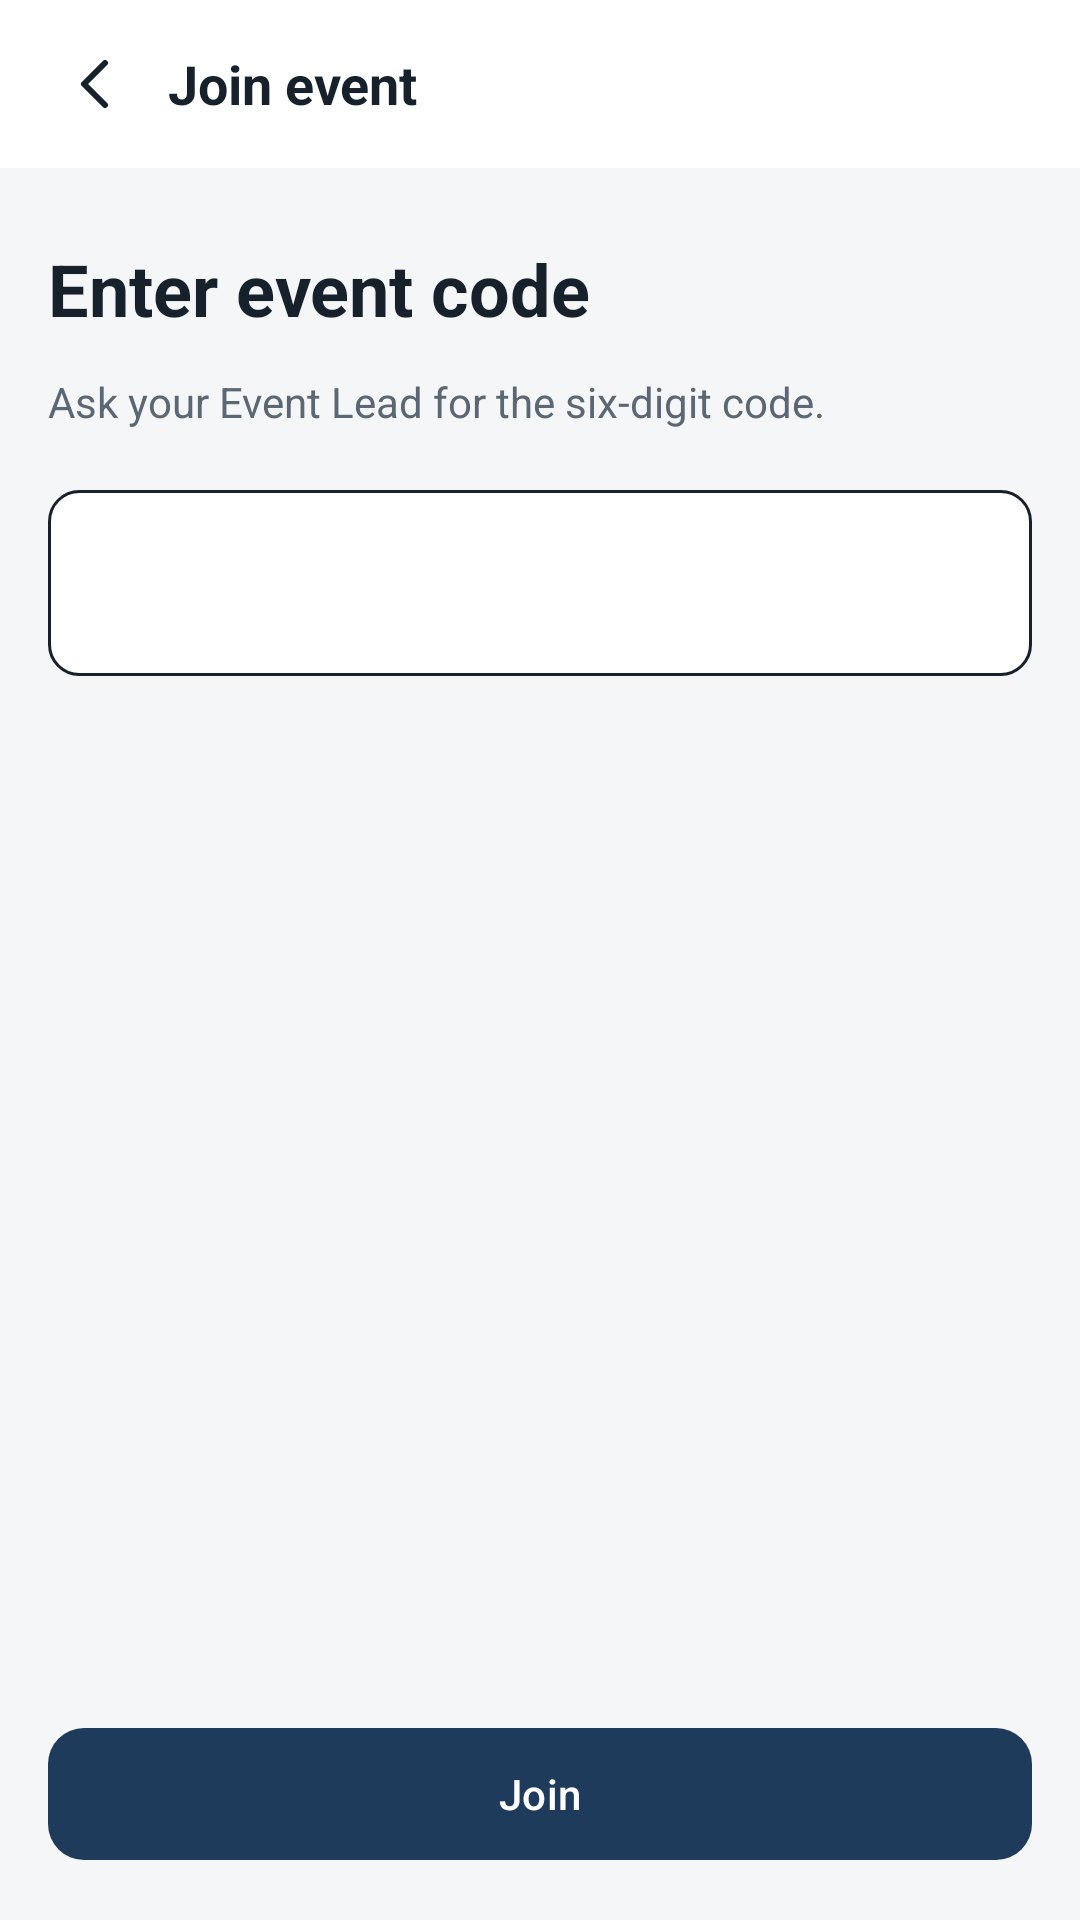

Named icons in this screenshot (1080*1920) and their centers, (x,y):
Back: (94,84)
